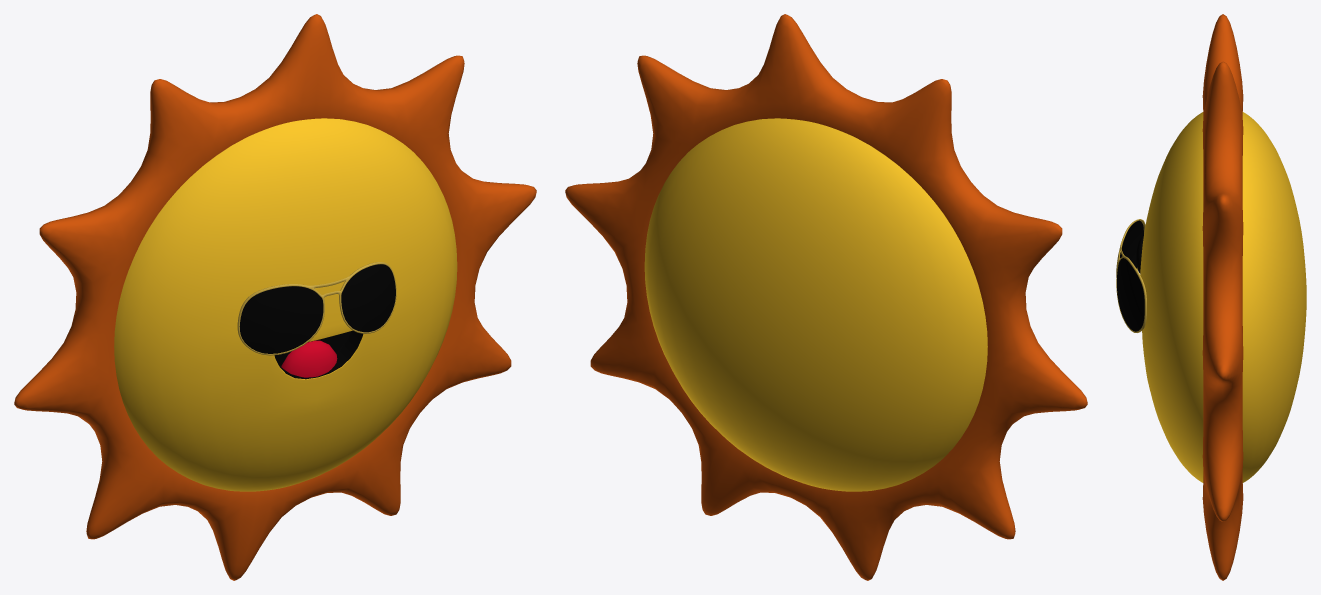
File: smilingSun.fbx
The picture shows the model from 3 angles, left to right: view 1: azimuth 30°, elevation 25°; view 2: azimuth 150°, elevation 25°; view 3: azimuth 270°, elevation 25°; orthographic projection. The views are drawn at different scales.
Visible parts, largest first — view 1: node_id177, node_id175, node_id181, node_id169, node_id179; view 2: node_id177, node_id175; view 3: node_id177, node_id175, node_id181, node_id179.
Boxes of the visible parts, <box> form: node_id177: <box>114,118,457,491</box>; node_id175: <box>14,14,536,580</box>; node_id181: <box>239,264,395,353</box>; node_id169: <box>281,340,337,377</box>; node_id179: <box>237,262,396,355</box>; node_id177: <box>644,118,987,491</box>; node_id175: <box>565,14,1087,580</box>; node_id177: <box>1140,112,1306,482</box>; node_id175: <box>1202,14,1243,580</box>; node_id181: <box>1117,220,1144,331</box>; node_id179: <box>1116,219,1146,332</box>.
Bounding box in the file's own units: 0.2748 × 0.2748 × 0.0934.
Materials: 7 (4 with a texture image).
